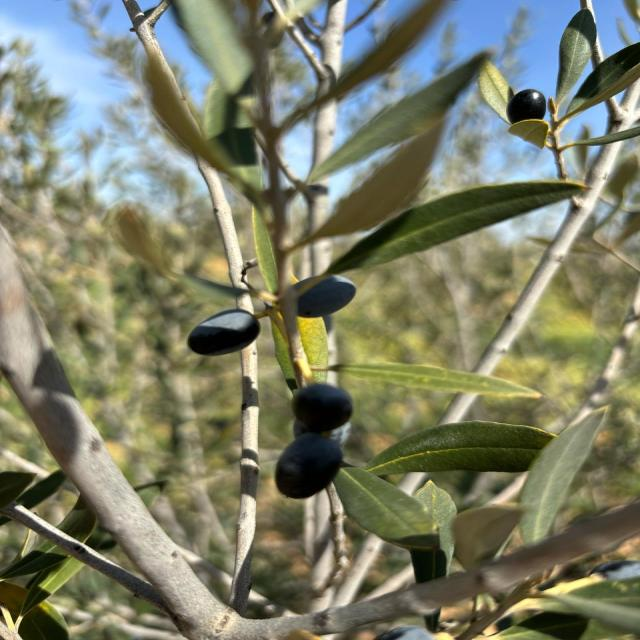Healthy: (327, 180, 583, 274), (365, 421, 555, 476), (275, 432, 342, 498), (188, 308, 259, 356), (293, 383, 353, 432)
